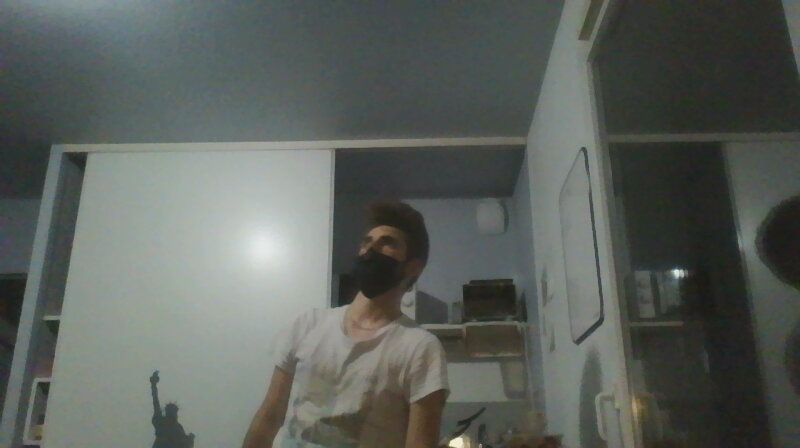with_incorrect_mask: (342, 221, 422, 300)
